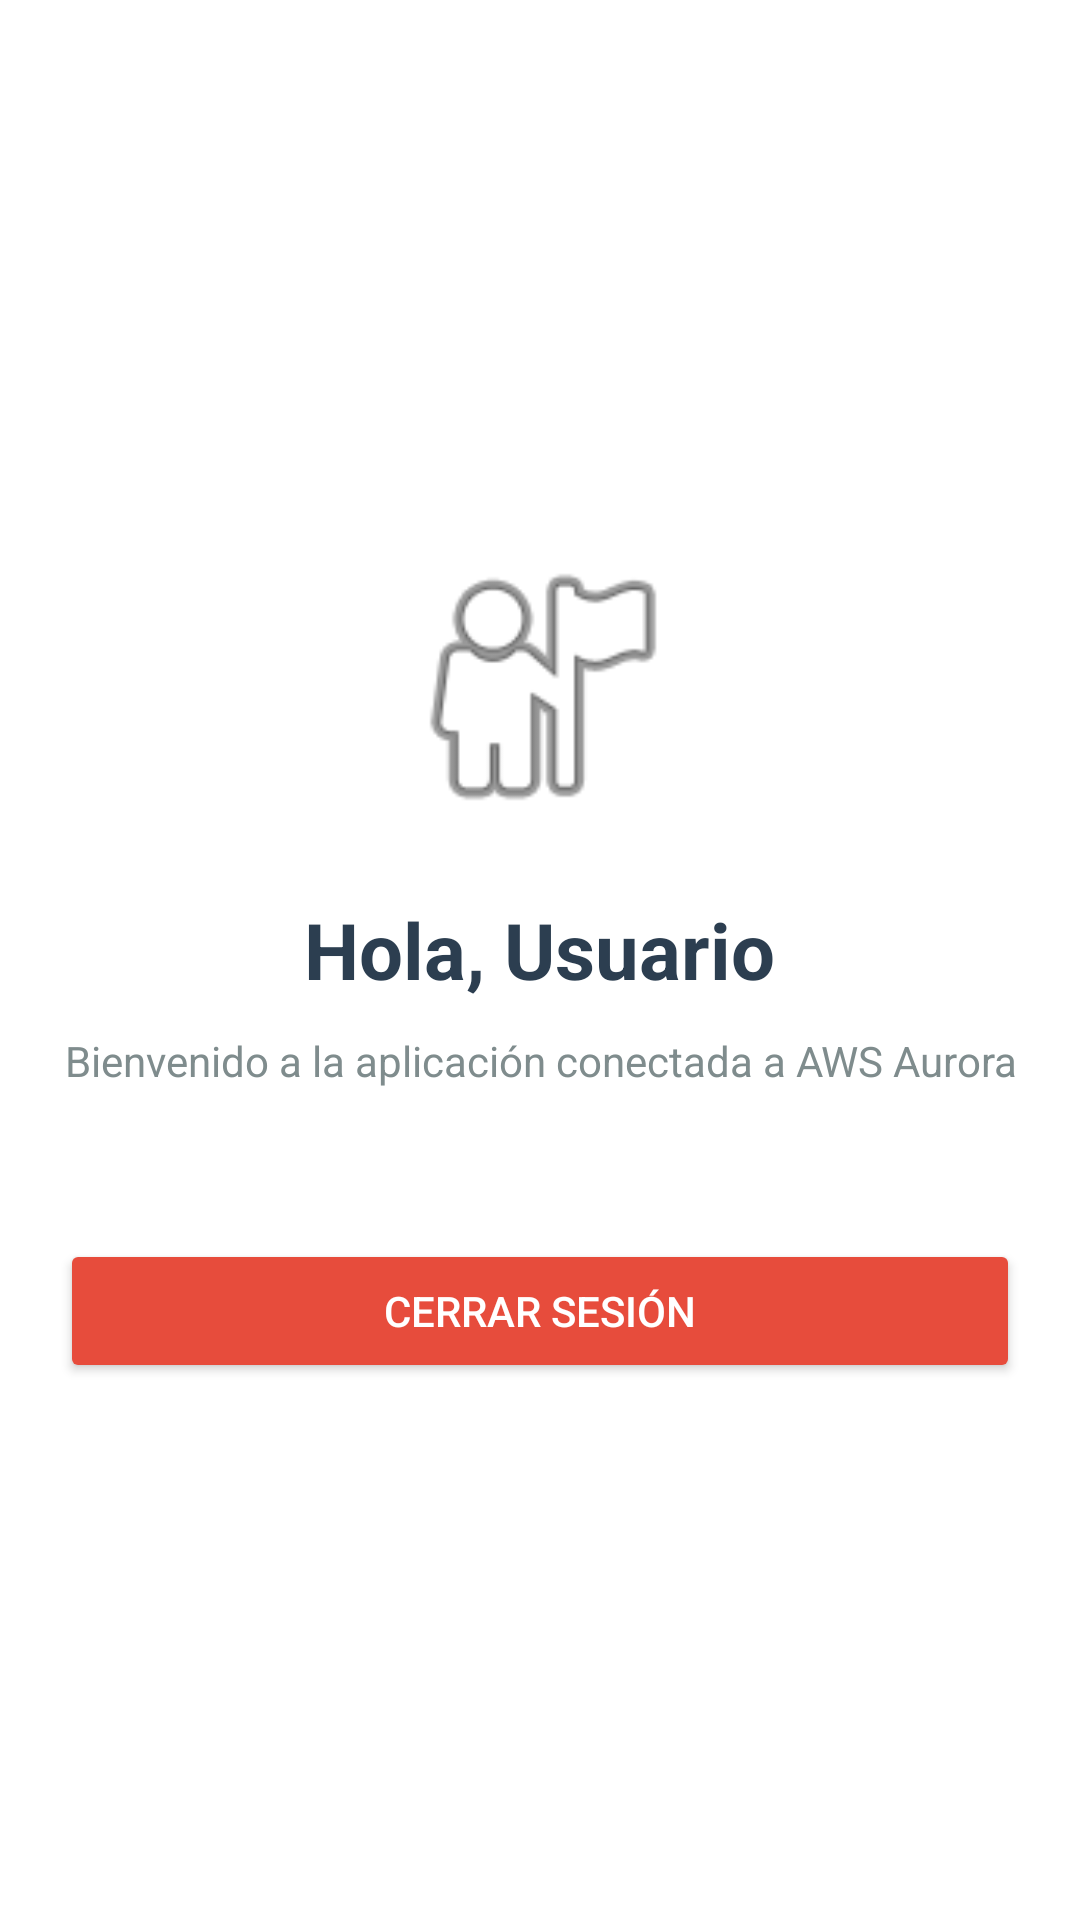

Screen size 1080*1920. Icon name, then its center in pixels as (x,y):
User Icon: (543,687)
